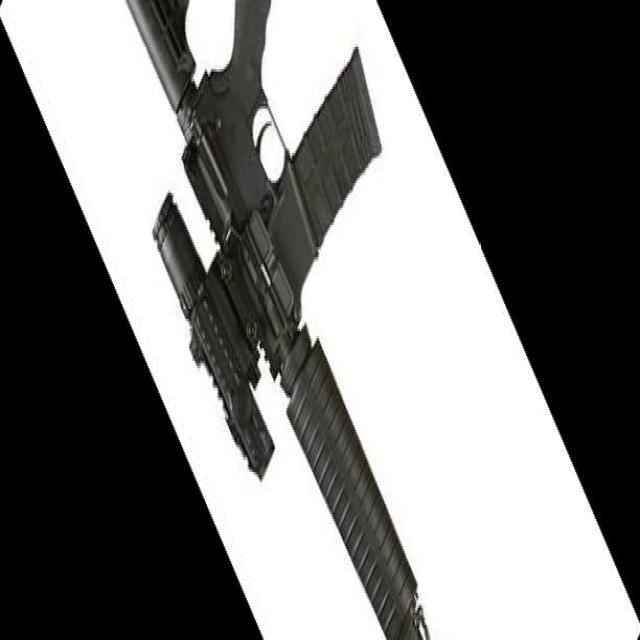weapon: (125, 2, 431, 640)
